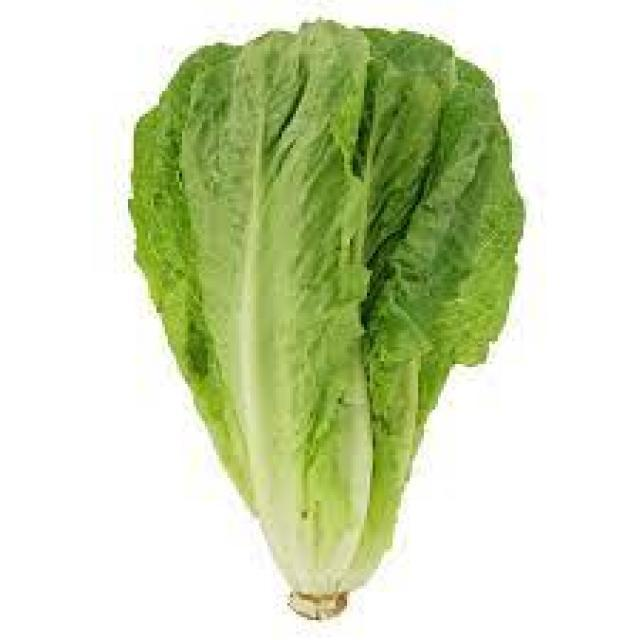Lettuce: (128, 18, 525, 607)
